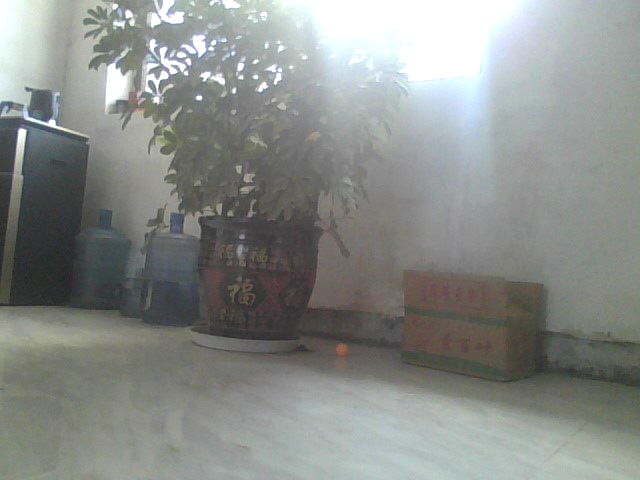ball: (335, 341, 349, 354)
